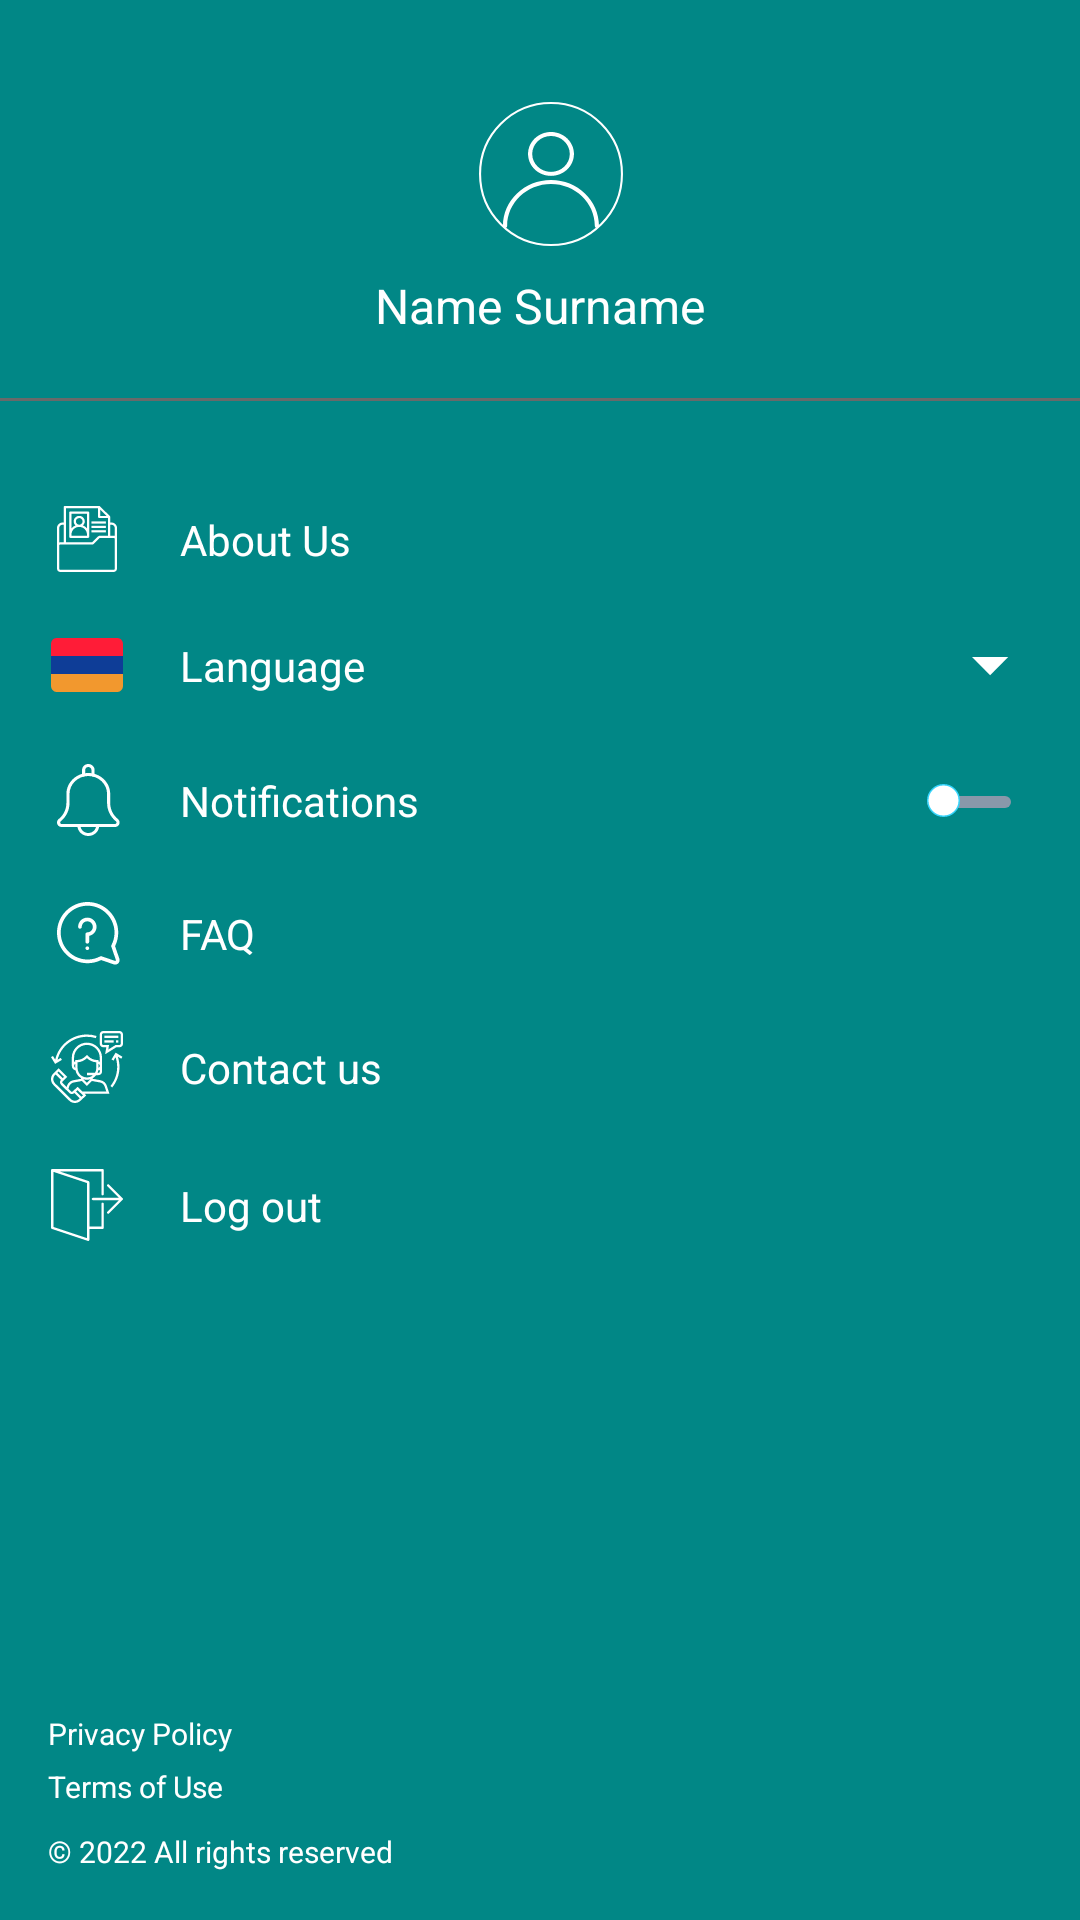

Icon bounding boxes for this 1080w x 1920h phone screenshot, format {"left": x1, "top": y1, "right": x2, "bottom": y2}:
flag arm: {"left": 51, "top": 638, "right": 123, "bottom": 692}
user profile: {"left": 479, "top": 102, "right": 623, "bottom": 246}
